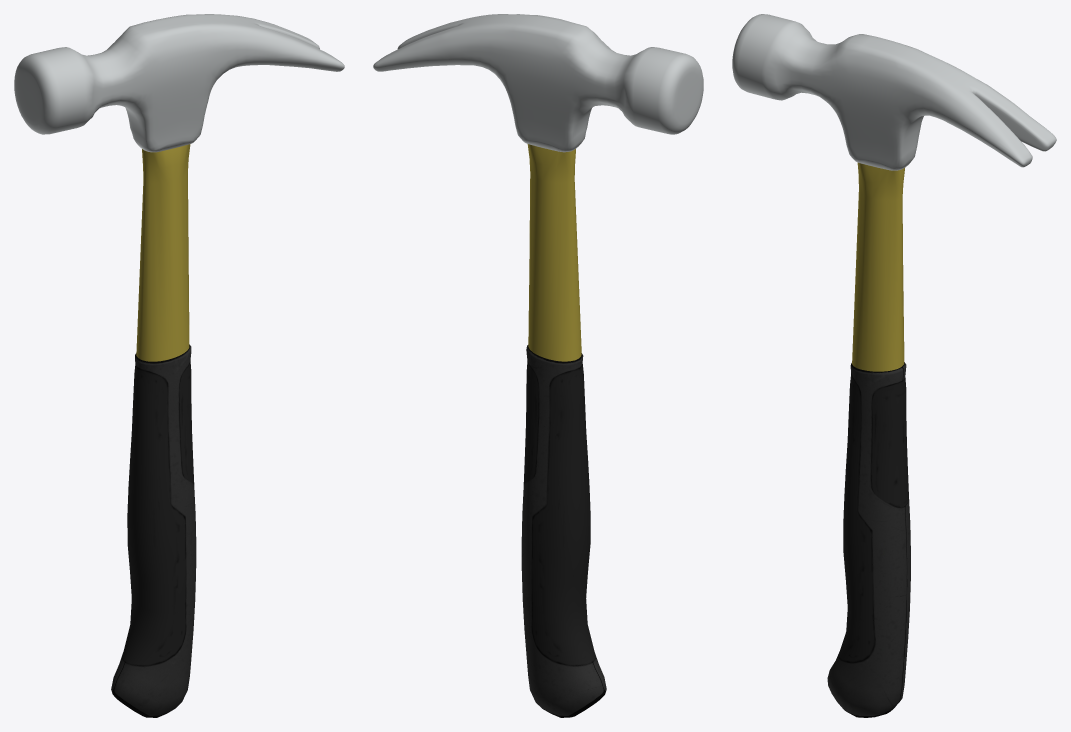
File: medium_poly_hammer.glb
3 views of the same model, side by side, from view 1: azimuth 30°, elevation 25°; view 2: azimuth 150°, elevation 25°; view 3: azimuth 330°, elevation 25° (orthographic).
Visible parts, largest first — view 1: Handle, Hammer; view 2: Handle, Hammer; view 3: Handle, Hammer.
Part boxes in pixels (box(x1,y1,x2,y2)): Handle: box(111, 144, 196, 717); Hammer: box(14, 14, 344, 152); Handle: box(521, 144, 606, 717); Hammer: box(373, 14, 703, 152); Handle: box(827, 162, 910, 717); Hammer: box(732, 14, 1056, 170).
Size of the model in its own units: 43.51 by 95.32 by 10.27.
1 material, 1 textured.
